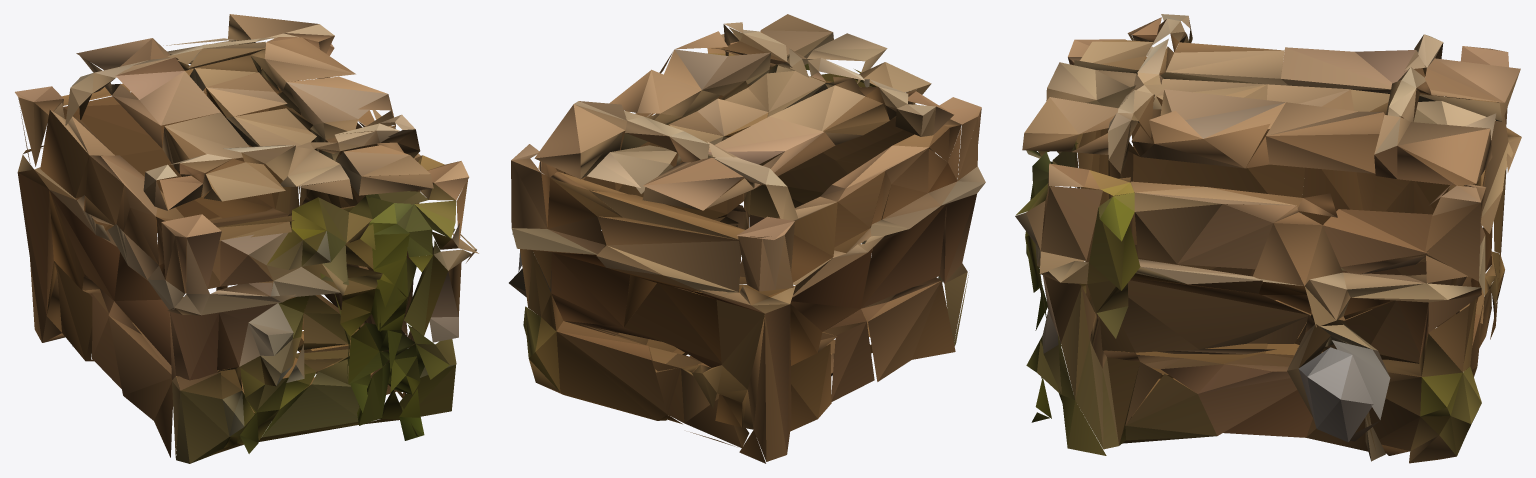
The model's file is building-driftCrate.glb.
3 renders of one model, left to right at view 1: azimuth 30°, elevation 25°; view 2: azimuth 150°, elevation 25°; view 3: azimuth 270°, elevation 25°, orthographic. The views are drawn at different scales.
Parts seen in each view (by area): view 1: 0_driftCrate; view 2: 0_driftCrate; view 3: 0_driftCrate.
Part boxes in pixels (x1,y1,x2,y2): 0_driftCrate: (15,14,478,463); 0_driftCrate: (509,14,985,463); 0_driftCrate: (1015,14,1521,463).
Size of the model in its own units: 0.7485 by 0.5743 by 0.8.
